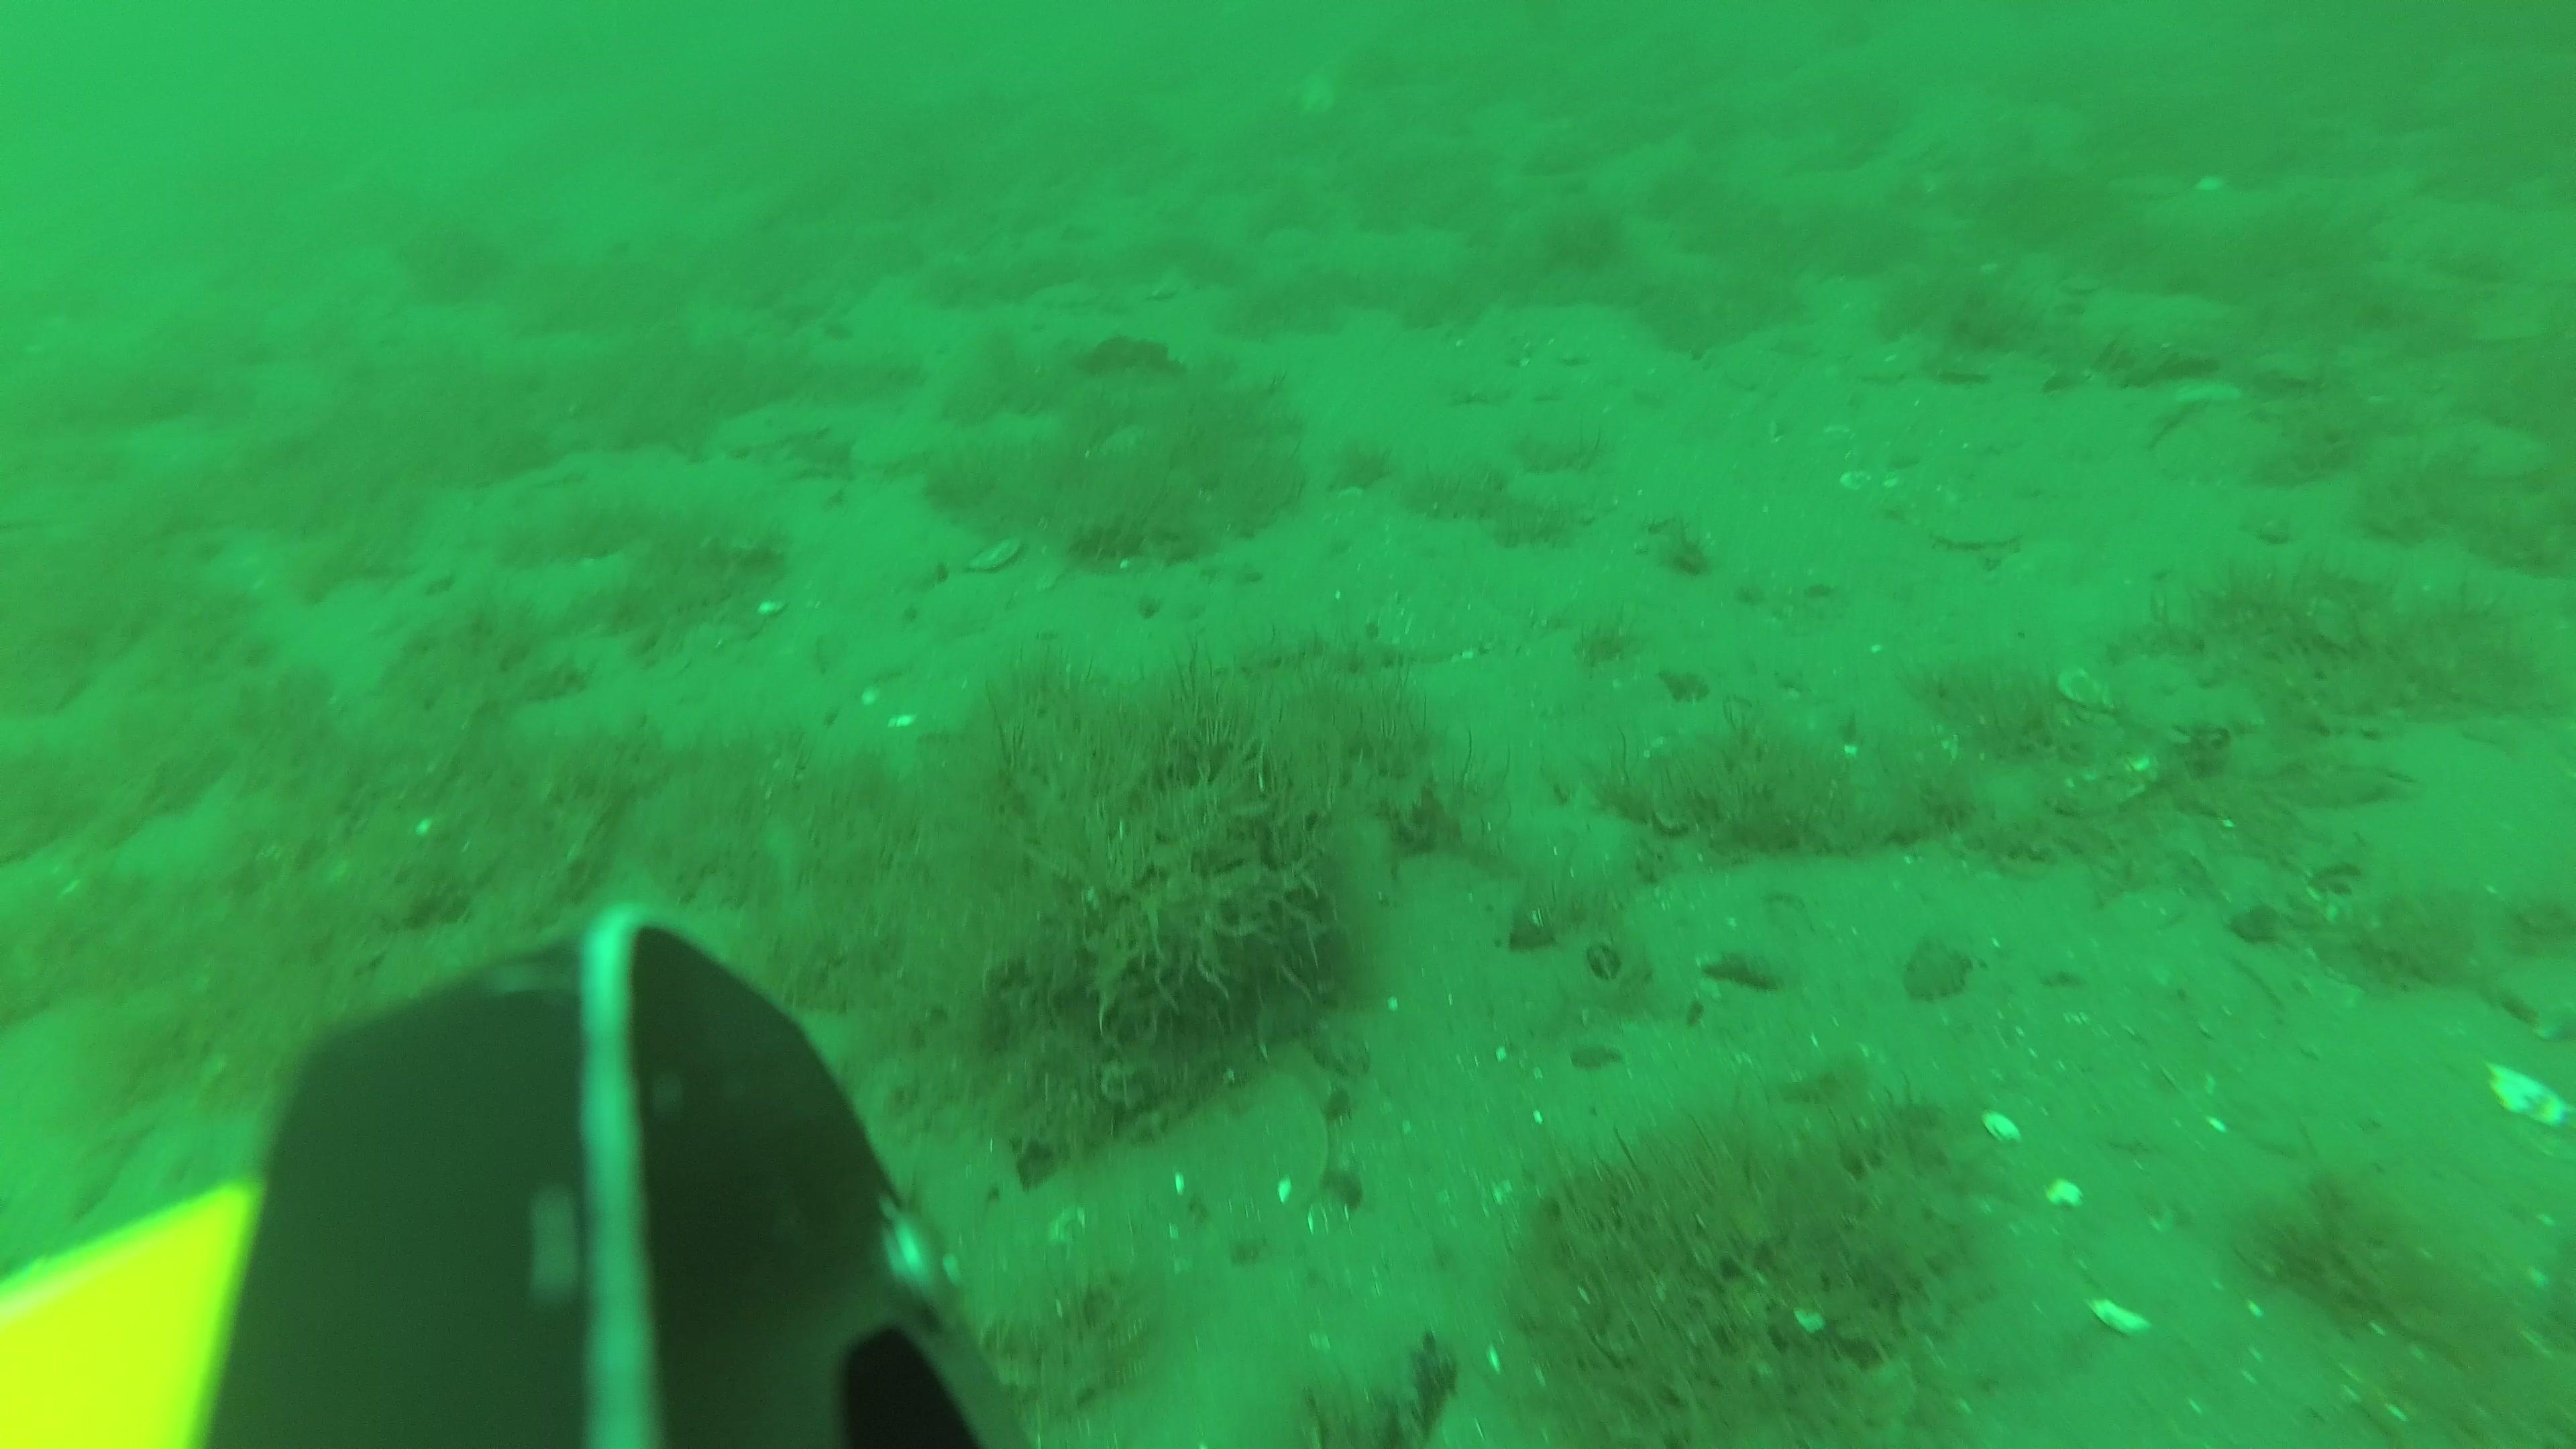scallop: (1184, 1081, 1327, 1233), (927, 571, 1010, 635), (1932, 511, 2024, 554)
